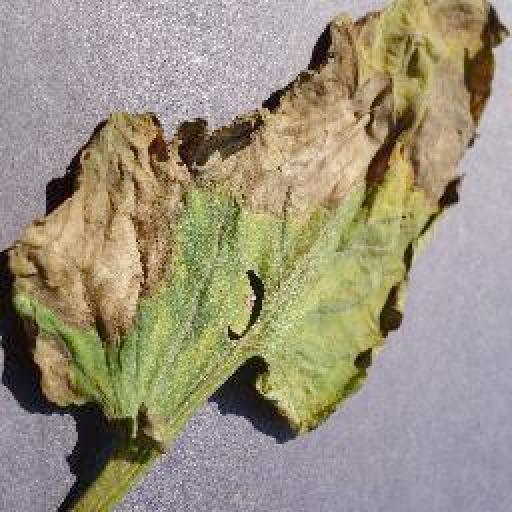disease_tomato: (1, 0, 511, 440)
